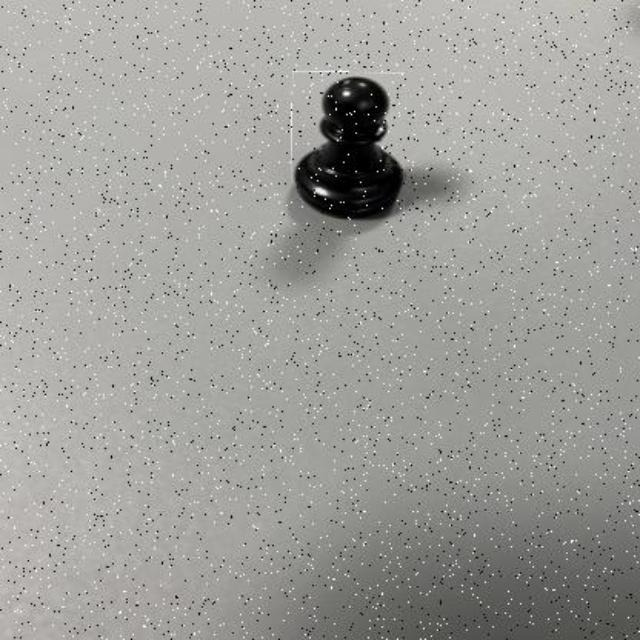black-pawn: (291, 72, 406, 222)
